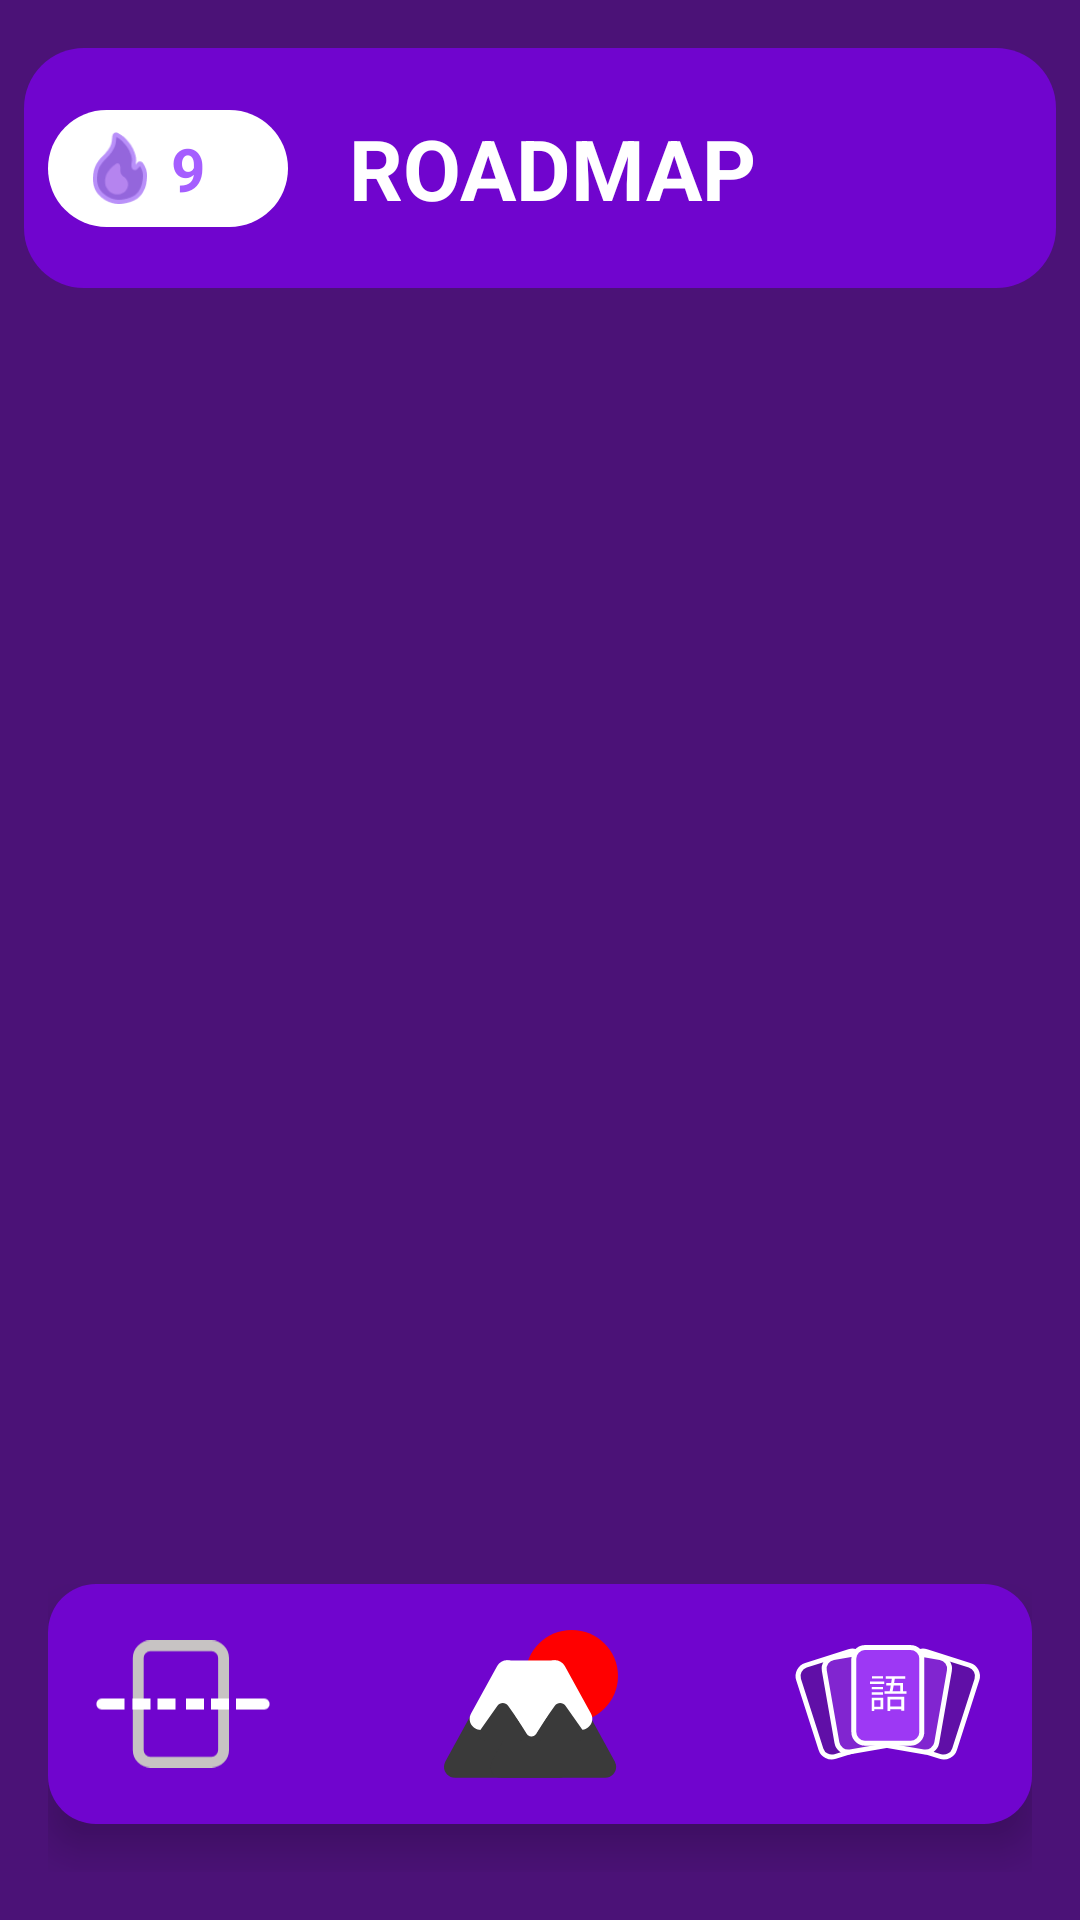

Where icons sit on this 1080×1920 app screen, as (x1, y1, x2, y2):
decks: (795, 1645, 980, 1760)
rmap streak: (93, 132, 147, 204)
scan: (96, 1640, 270, 1768)
